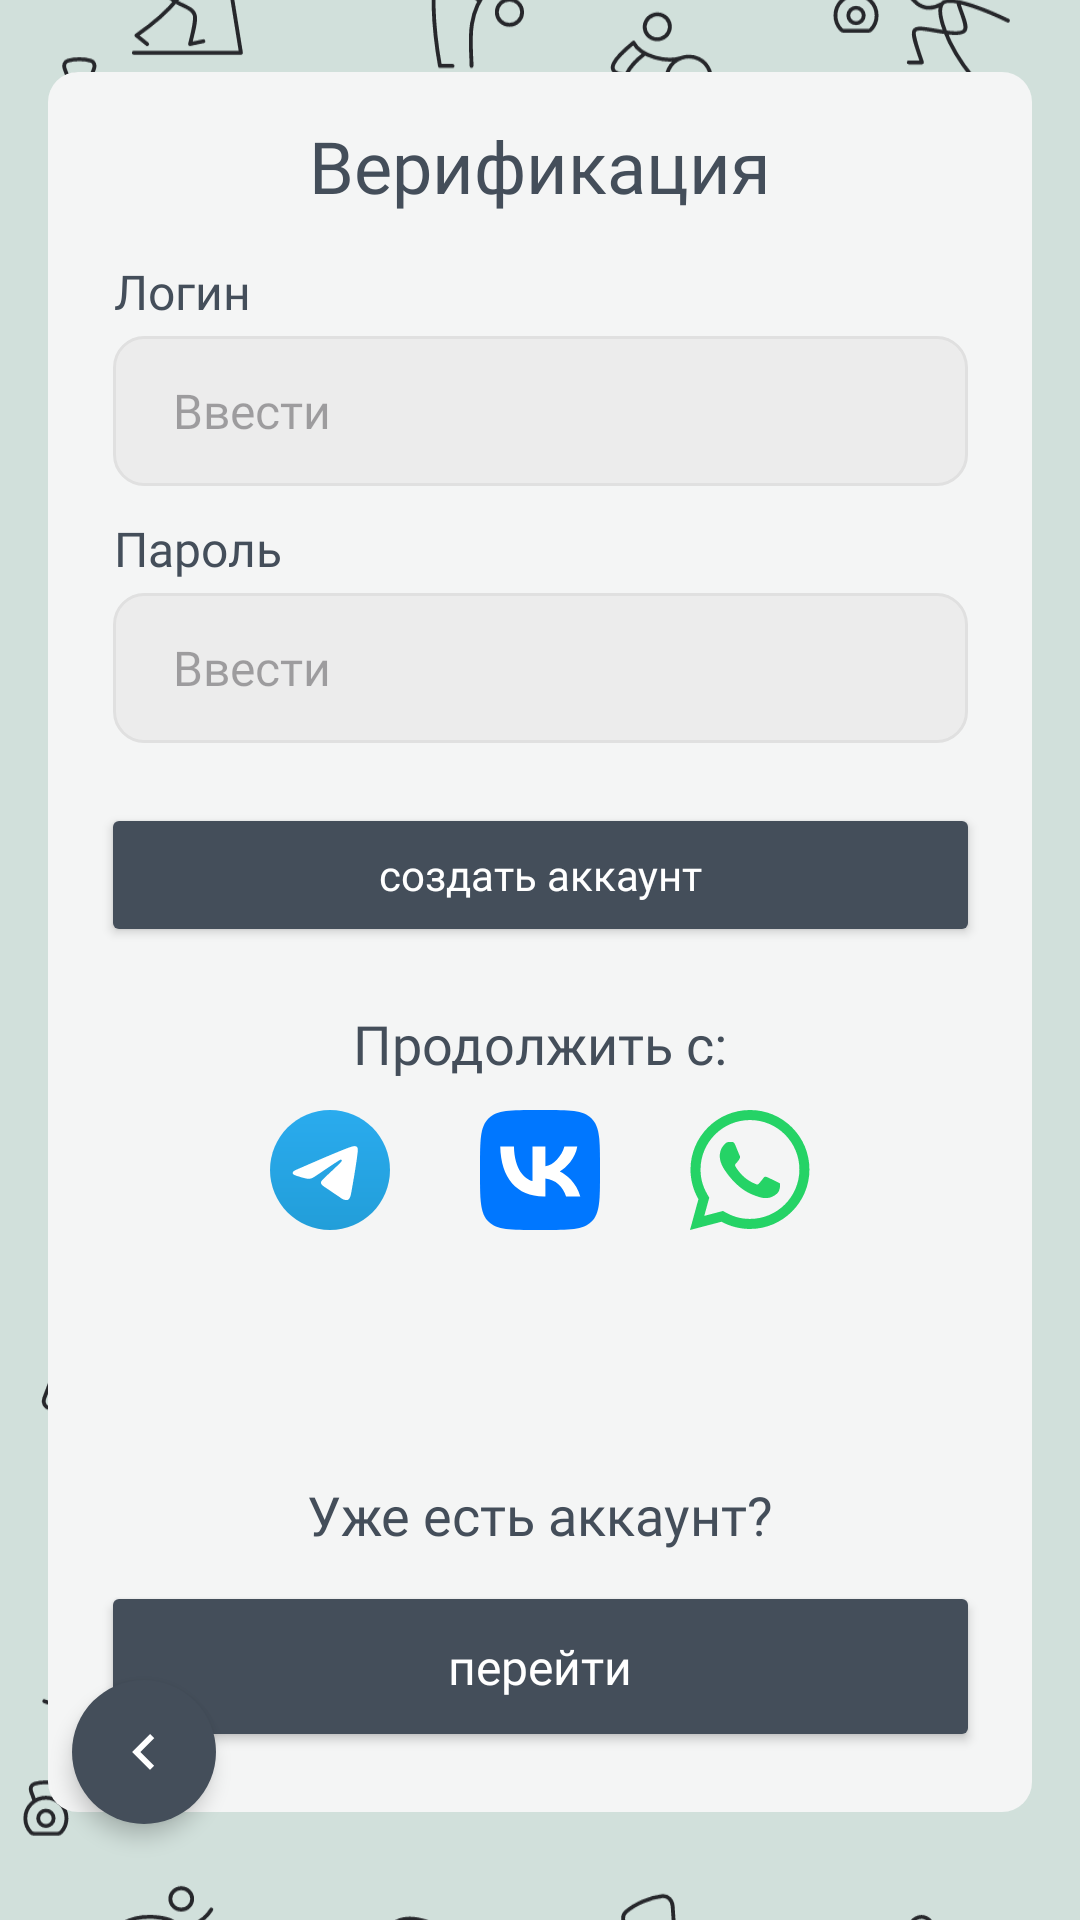

Point at icon controls on the screen. Image size 1080 x 1920, points as point (x, y).
Кнопка Назад: point (144, 1752)
